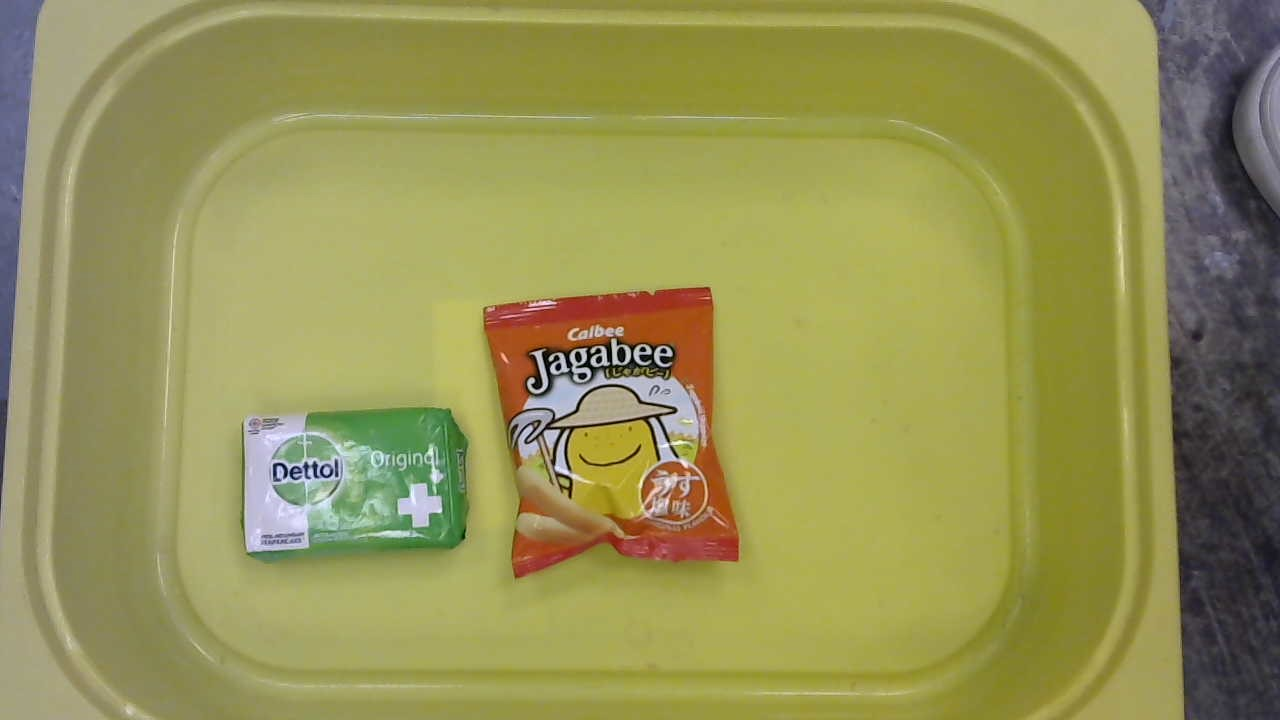Dettol: (236, 409, 469, 564)
JagabeeFarmer: (476, 285, 745, 580)
